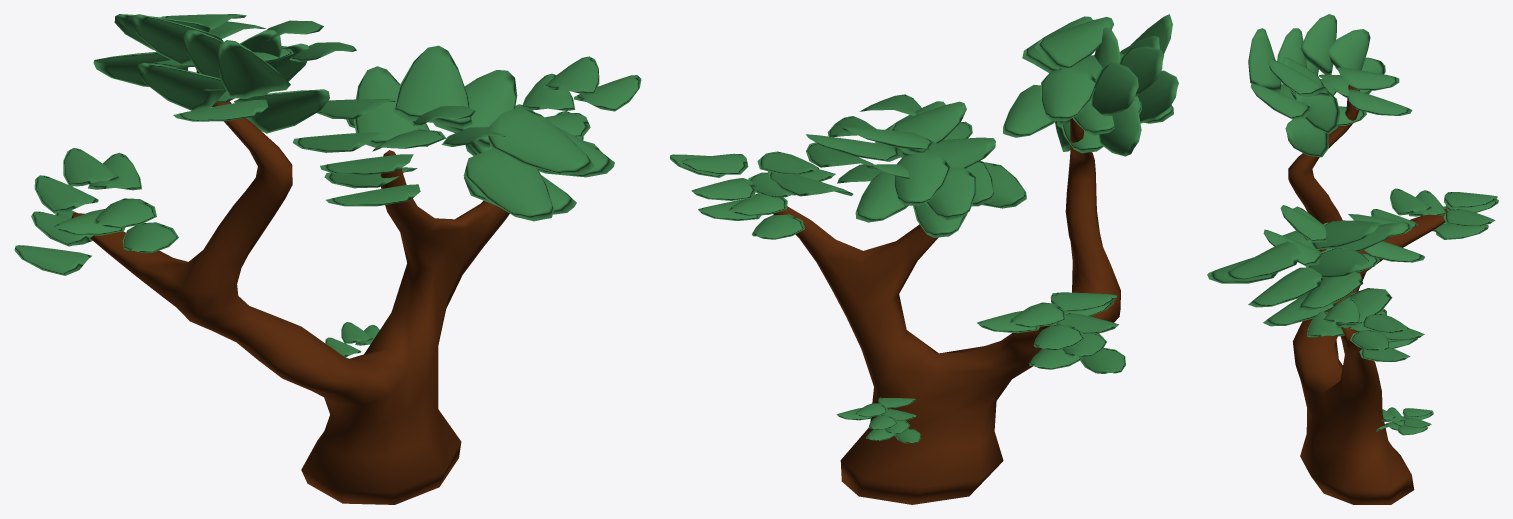
The model's file is myTree.fbx.
The picture shows the model from 3 angles, left to right: view 1: azimuth 30°, elevation 25°; view 2: azimuth 150°, elevation 25°; view 3: azimuth 270°, elevation 25°; orthographic projection. The views are drawn at different scales.
Visible parts, largest first — view 1: tree; view 2: tree; view 3: tree.
Boxes of the visible parts, left/top/right/bottom form: tree: left=14, top=14, right=641, bottom=504; tree: left=670, top=14, right=1178, bottom=504; tree: left=1207, top=14, right=1498, bottom=504.
Size of the model in its own units: 919 by 846 by 583.
